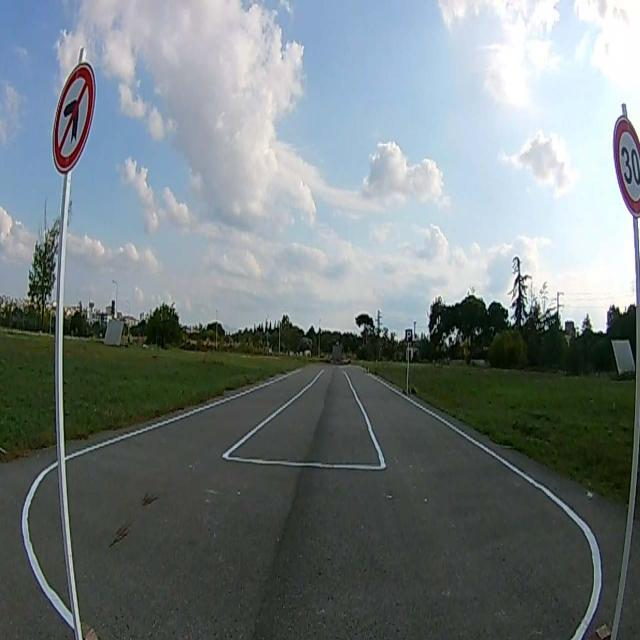30: (612, 116, 640, 215)
soladonulmez: (54, 64, 93, 168)
